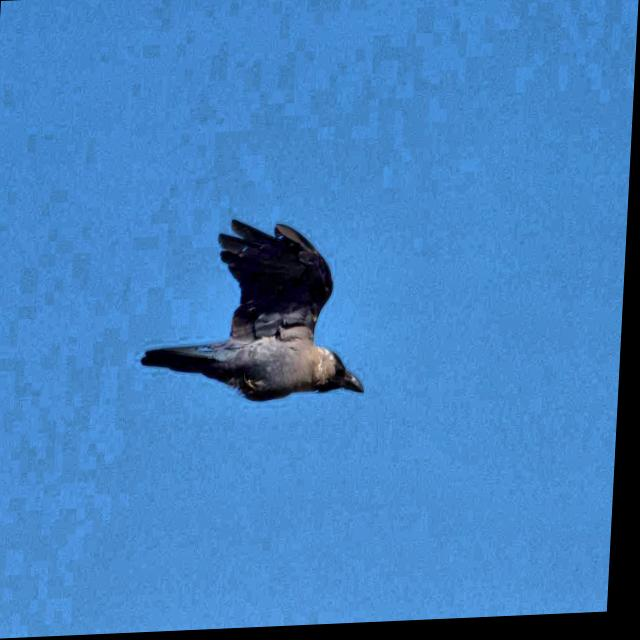crow: (129, 186, 388, 428)
